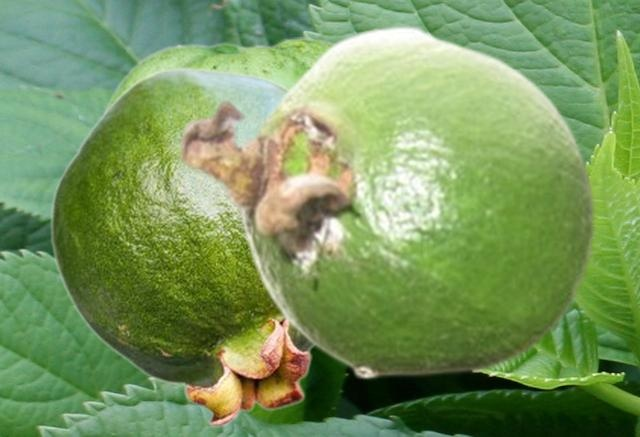guava: (177, 23, 597, 379), (49, 67, 315, 427), (104, 37, 335, 110)
